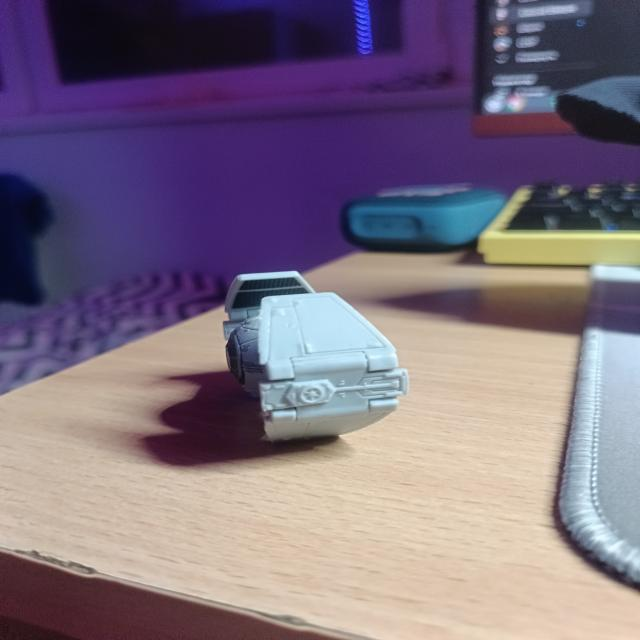tie fighter: (223, 271, 409, 440)
